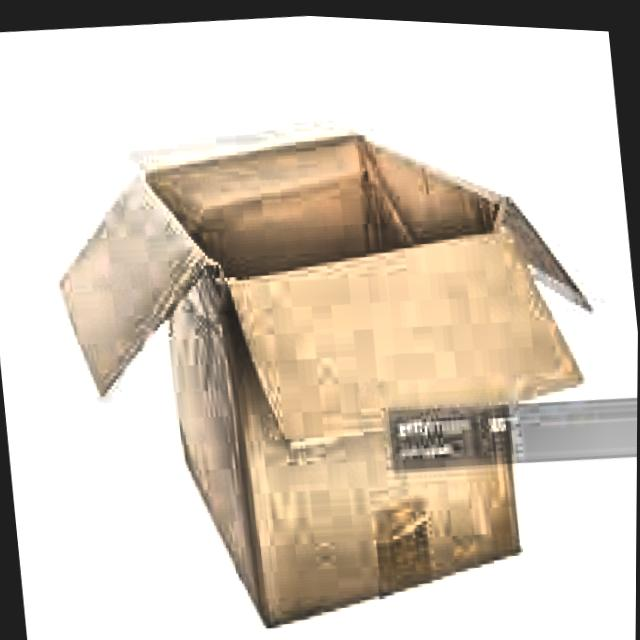Cardbox: (20, 59, 636, 640)
